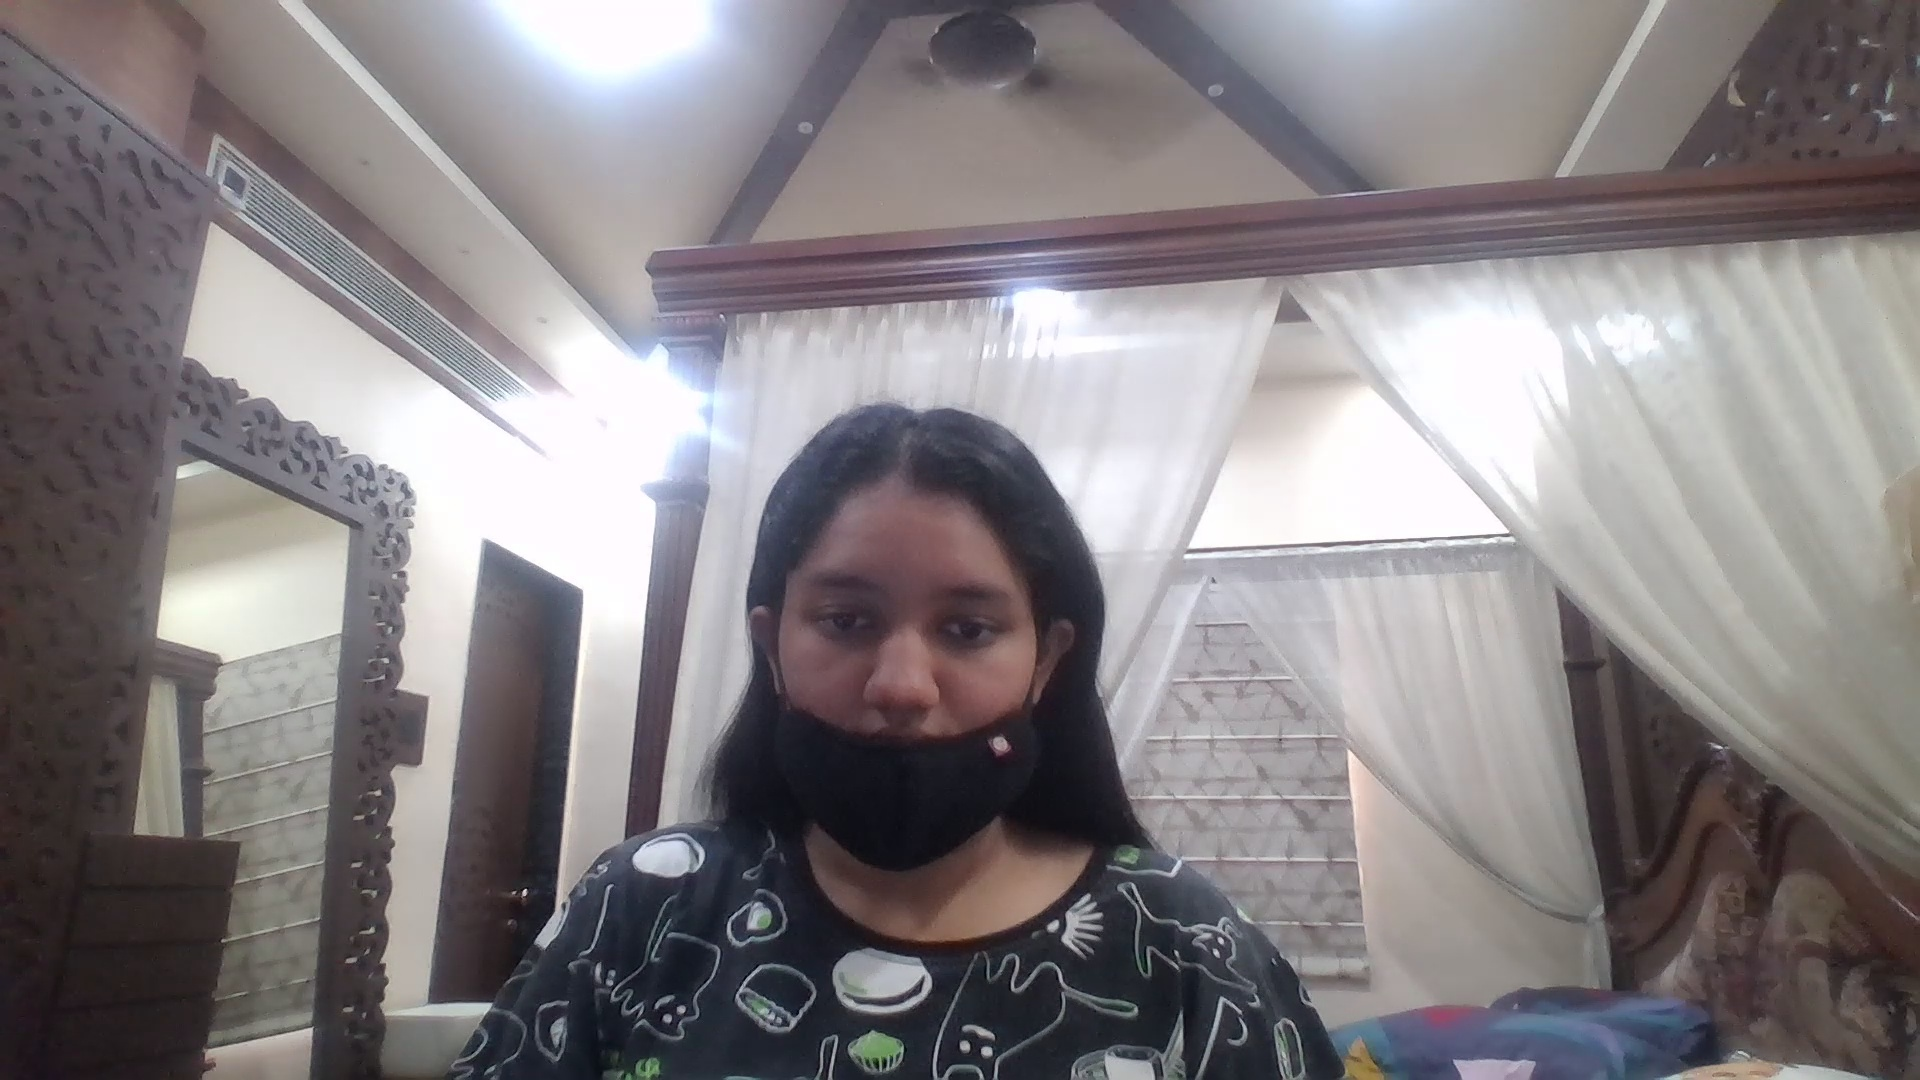Mask: (768, 663, 1028, 889)
